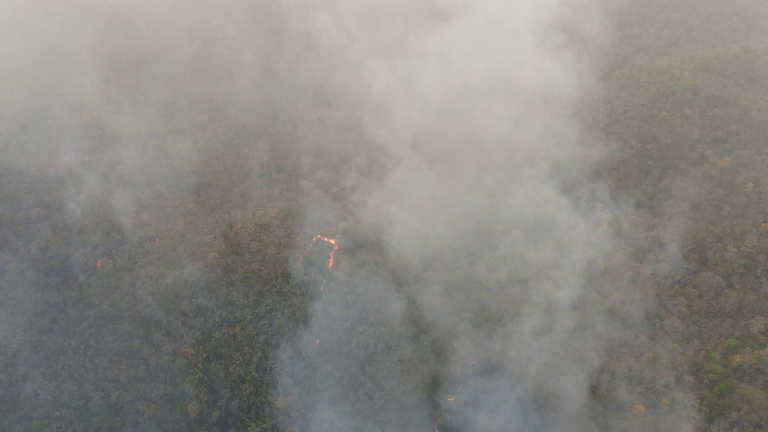fire: (301, 233, 338, 283), (92, 256, 110, 272), (314, 336, 322, 350)
smoke: (289, 1, 690, 430), (1, 176, 222, 432), (1, 1, 310, 177)
